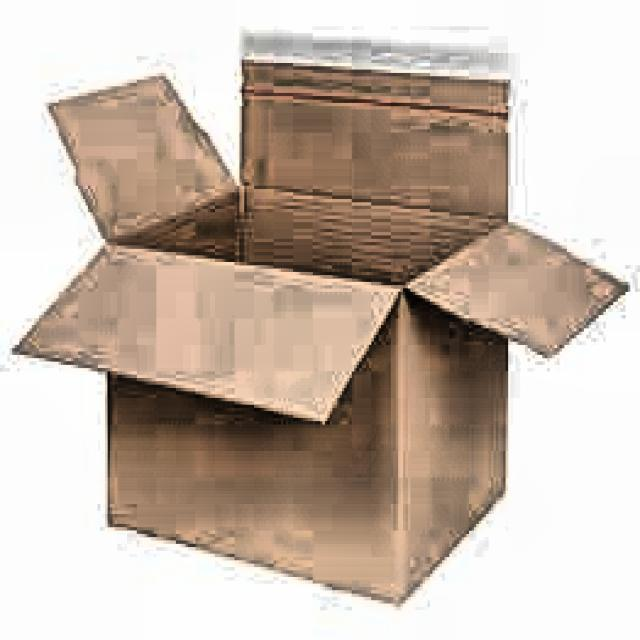cardboard: (12, 53, 628, 604)
